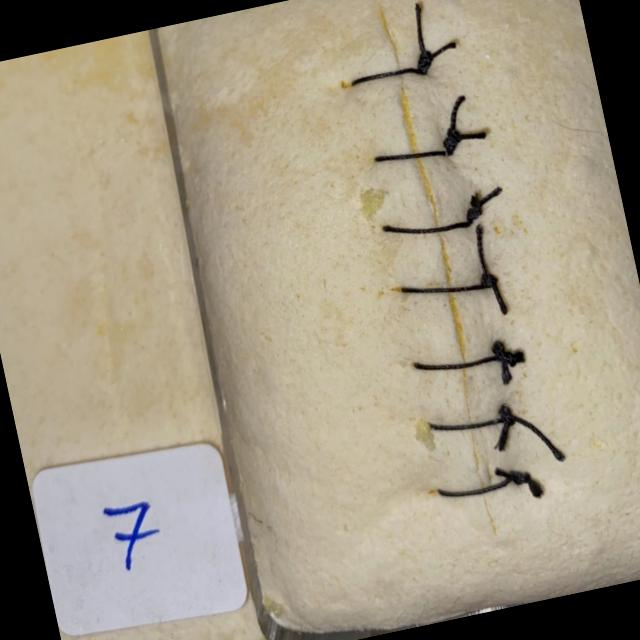knot: (492, 341, 516, 366), (444, 126, 460, 155), (498, 405, 516, 426), (418, 51, 432, 73), (509, 471, 530, 484), (466, 205, 481, 222), (481, 273, 495, 287)
leftover: (508, 415, 564, 462), (467, 184, 503, 223), (418, 39, 456, 72), (446, 92, 466, 153), (413, 0, 427, 73), (447, 130, 488, 153), (475, 221, 489, 286), (489, 279, 507, 317), (517, 471, 542, 497), (496, 415, 509, 453), (466, 191, 477, 224), (491, 467, 518, 479), (500, 351, 508, 386), (500, 351, 525, 360)
stitch: (435, 470, 524, 497), (411, 349, 512, 370), (349, 65, 428, 87), (379, 217, 474, 233), (426, 414, 515, 430), (397, 279, 496, 293), (372, 146, 455, 162)
wound: (376, 2, 497, 531)
